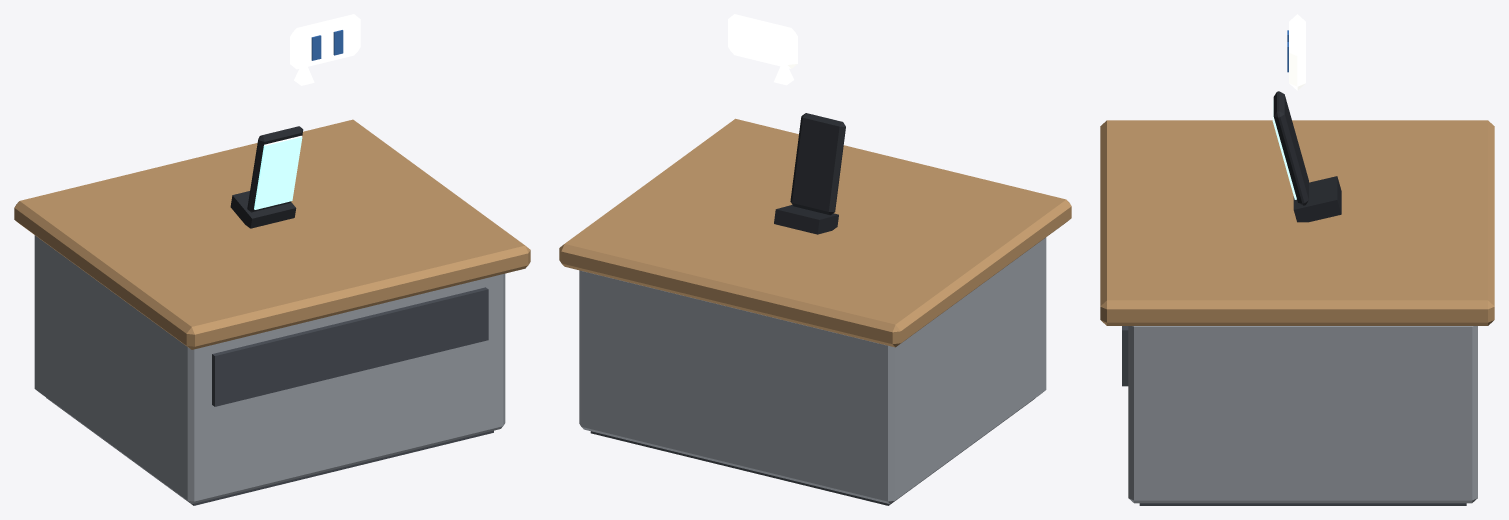
File: quickreply_1.glb
3 views of the same model, side by side, from view 1: azimuth 30°, elevation 25°; view 2: azimuth 150°, elevation 25°; view 3: azimuth 270°, elevation 25° (orthographic). The views are drawn at different scales.
Parts seen in each view (by area): view 1: quickreply_1_mesh_Desk, quickreply_1_mesh; view 2: quickreply_1_mesh_Desk, quickreply_1_mesh; view 3: quickreply_1_mesh_Desk, quickreply_1_mesh.
Part boxes in pixels (x1=…): quickreply_1_mesh_Desk: x1=14, y1=119, x2=530, y2=505; quickreply_1_mesh: x1=230, y1=14, x2=360, y2=228; quickreply_1_mesh_Desk: x1=559, y1=118, x2=1071, y2=505; quickreply_1_mesh: x1=728, y1=14, x2=845, y2=234; quickreply_1_mesh_Desk: x1=1100, y1=120, x2=1494, y2=505; quickreply_1_mesh: x1=1272, y1=14, x2=1341, y2=222.
Size of the model in its own units: 0.78 by 0.83 by 0.7.
